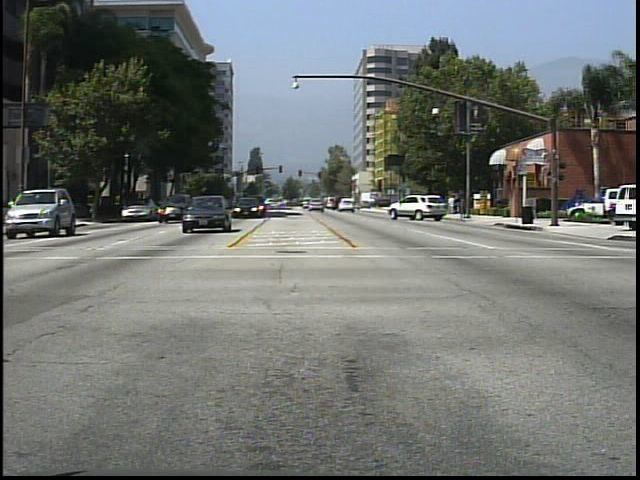person: (422, 190, 439, 216), (447, 192, 459, 217)
